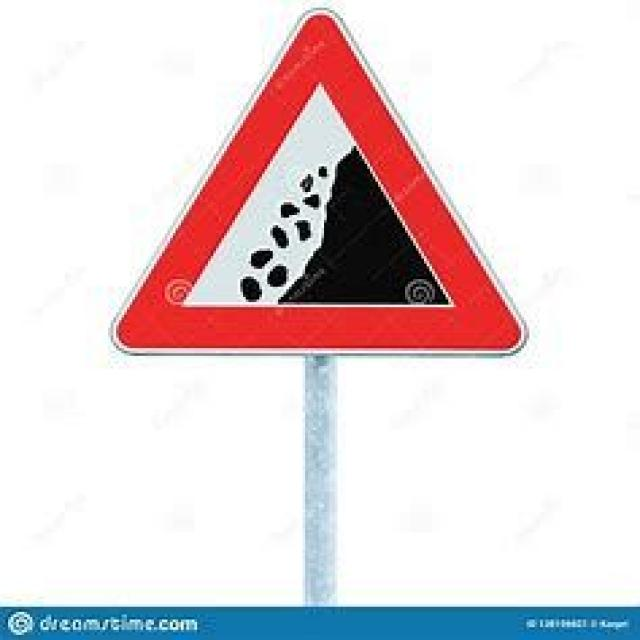FALLING_ROCKS: (114, 4, 527, 364)
